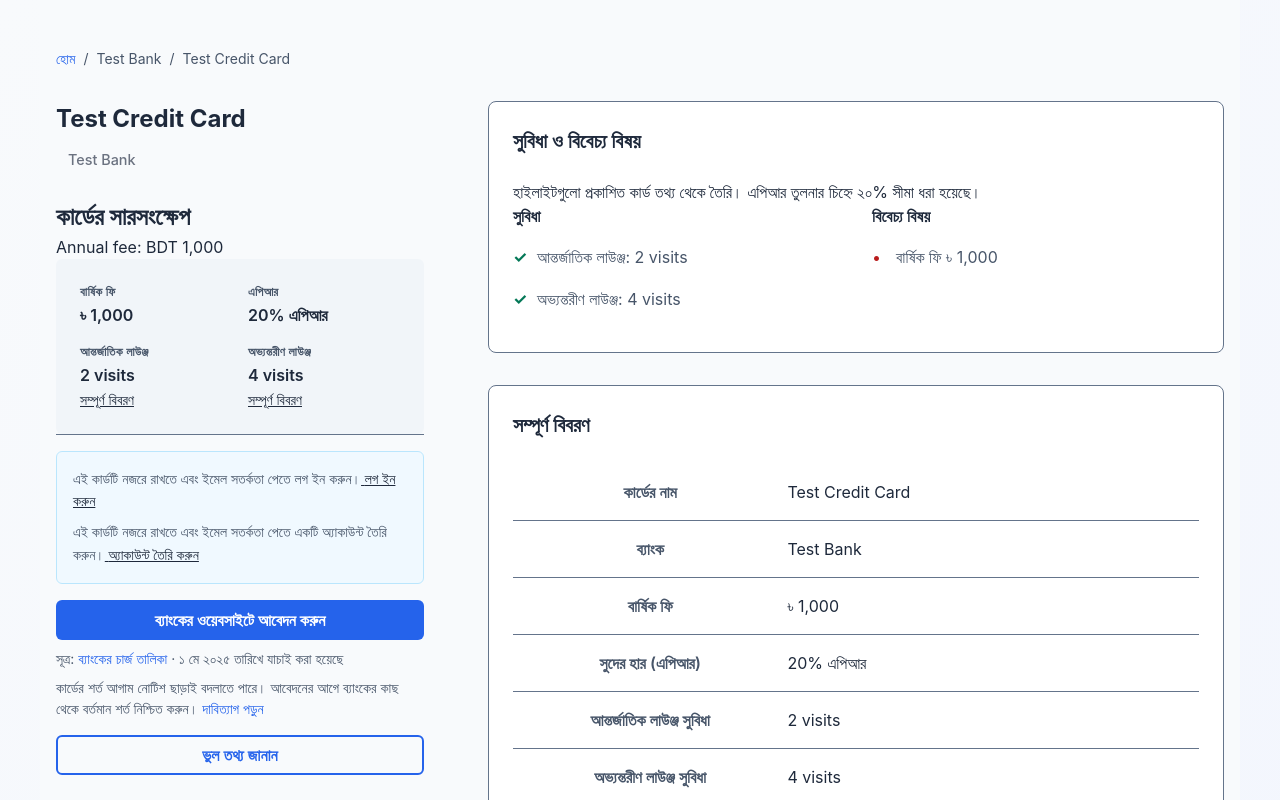
Report incorrect data dialog › renders Bengali copy
The image size is (1280, 800).
What coordinates should you click on to do the following:
click the button "ভুল তথ্য জানান"
I would click on:
 (240, 755)
Its box is [56,735,424,775].
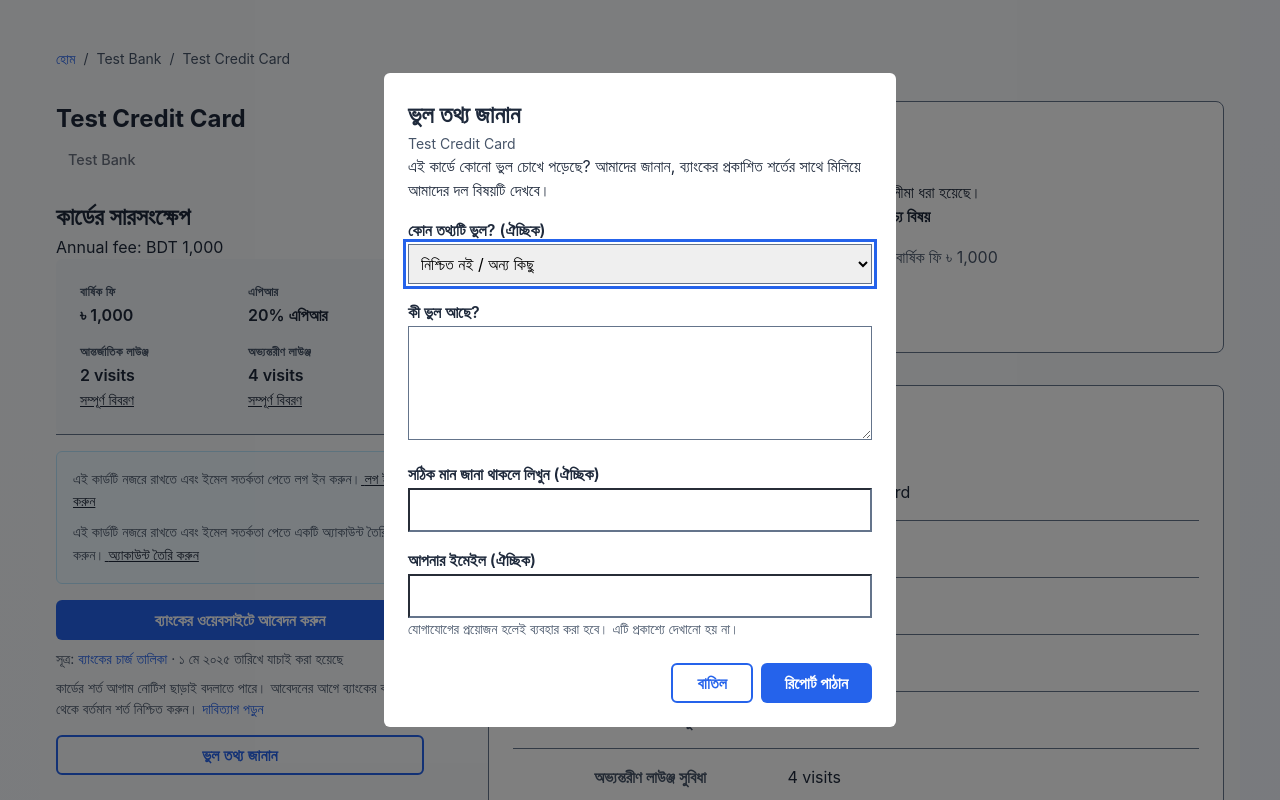
Expected: the dialog "ভুল তথ্য জানান" is shown, [384,73,896,727]
